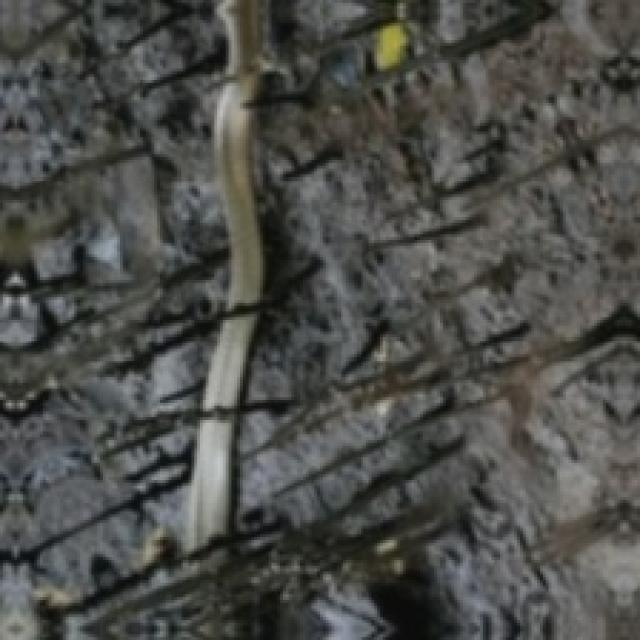king cobra: (189, 0, 260, 546)
